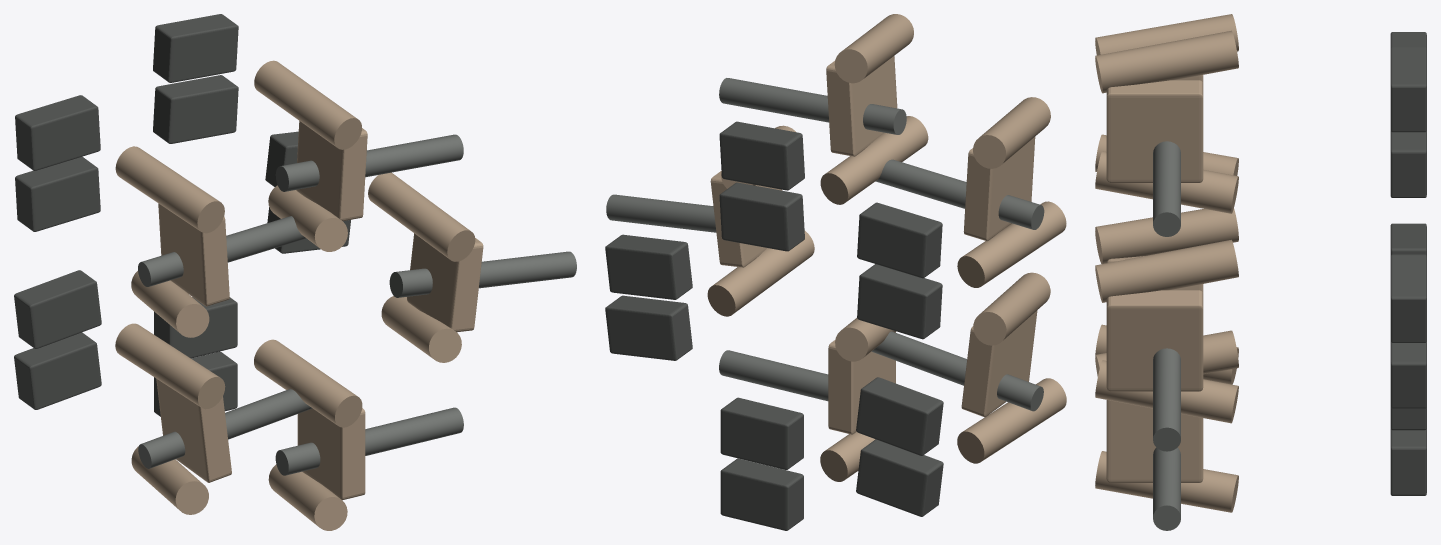
Rendered from d-u01-dominion-line-infantry-lod2.glb.
The picture shows the model from 3 angles, left to right: view 1: azimuth 30°, elevation 25°; view 2: azimuth 150°, elevation 25°; view 3: azimuth 270°, elevation 25°; orthographic projection. The views are drawn at different scales.
Parts seen in each view (by area): view 1: soldier_4_boot_1, soldier_3_boot_1, soldier_3_boot_-1, soldier_1_boot_1, soldier_1_boot_-1, soldier_4_boot_-1, soldier_0_chest, soldier_1_chest, soldier_3_chest, soldier_4_chest, soldier_2_chest, soldier_4_arm_1 (+17 smaller); view 2: soldier_4_boot_1, soldier_3_boot_1, soldier_2_boot_-1, soldier_2_boot_1, soldier_3_boot_-1, soldier_1_boot_-1, soldier_1_boot_1, soldier_4_boot_-1, soldier_0_boot_1, soldier_0_boot_-1, soldier_1_chest, soldier_3_chest (+17 smaller); view 3: soldier_1_chest, soldier_0_chest, soldier_1_arm_1, soldier_0_arm_1, soldier_2_chest, soldier_4_arm_1, soldier_0_boot_1, soldier_1_boot_1, soldier_0_arm_-1, soldier_1_arm_-1, soldier_2_arm_-1, soldier_0_rifle (+12 smaller).
Boxes of the visible parts, x1=… form: soldier_4_boot_1: x1=14, y1=270, x2=101, y2=348; soldier_3_boot_1: x1=15, y1=95, x2=100, y2=170; soldier_3_boot_-1: x1=15, y1=156, x2=100, y2=231; soldier_1_boot_1: x1=153, y1=14, x2=238, y2=82; soldier_1_boot_-1: x1=153, y1=75, x2=238, y2=143; soldier_4_boot_-1: x1=14, y1=332, x2=101, y2=409; soldier_0_chest: x1=407, y1=233, x2=483, y2=332; soldier_1_chest: x1=296, y1=121, x2=367, y2=221; soldier_3_chest: x1=158, y1=203, x2=229, y2=306; soldier_4_chest: x1=156, y1=379, x2=231, y2=482; soldier_2_chest: x1=297, y1=408, x2=365, y2=500; soldier_4_arm_1: x1=115, y1=323, x2=225, y2=409; soldier_4_boot_1: x1=856, y1=377, x2=943, y2=455; soldier_3_boot_1: x1=857, y1=202, x2=942, y2=278; soldier_2_boot_-1: x1=720, y1=458, x2=803, y2=530; soldier_2_boot_1: x1=720, y1=397, x2=803, y2=469; soldier_3_boot_-1: x1=857, y1=264, x2=942, y2=339; soldier_1_boot_-1: x1=719, y1=182, x2=804, y2=251; soldier_1_boot_1: x1=719, y1=121, x2=804, y2=190; soldier_4_boot_-1: x1=856, y1=439, x2=943, y2=516; soldier_0_boot_1: x1=605, y1=234, x2=692, y2=299; soldier_0_boot_-1: x1=605, y1=295, x2=692, y2=360; soldier_1_chest: x1=826, y1=56, x2=897, y2=156; soldier_3_chest: x1=963, y1=137, x2=1035, y2=241; soldier_1_chest: x1=1106, y1=80, x2=1203, y2=182; soldier_0_chest: x1=1106, y1=290, x2=1203, y2=391; soldier_1_arm_1: x1=1095, y1=30, x2=1238, y2=93; soldier_0_arm_1: x1=1095, y1=239, x2=1238, y2=302; soldier_2_chest: x1=1106, y1=400, x2=1203, y2=482; soldier_4_arm_1: x1=1095, y1=208, x2=1238, y2=263; soldier_0_boot_1: x1=1390, y1=254, x2=1426, y2=342; soldier_1_boot_1: x1=1390, y1=46, x2=1426, y2=132; soldier_0_arm_-1: x1=1095, y1=360, x2=1238, y2=423; soldier_1_arm_-1: x1=1095, y1=151, x2=1238, y2=213; soldier_2_arm_-1: x1=1095, y1=451, x2=1238, y2=512; soldier_0_rifle: x1=1153, y1=348, x2=1180, y2=451.
Size of what is drawn, in the model's own units: 2.7 by 2.57 by 1.65.
